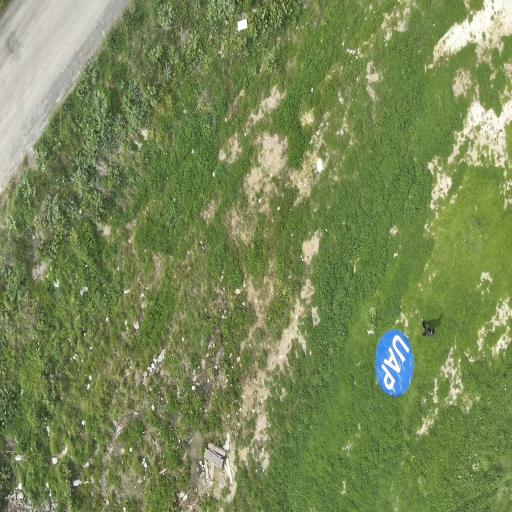person: (422, 319, 434, 337)
uap: (375, 330, 414, 396)
